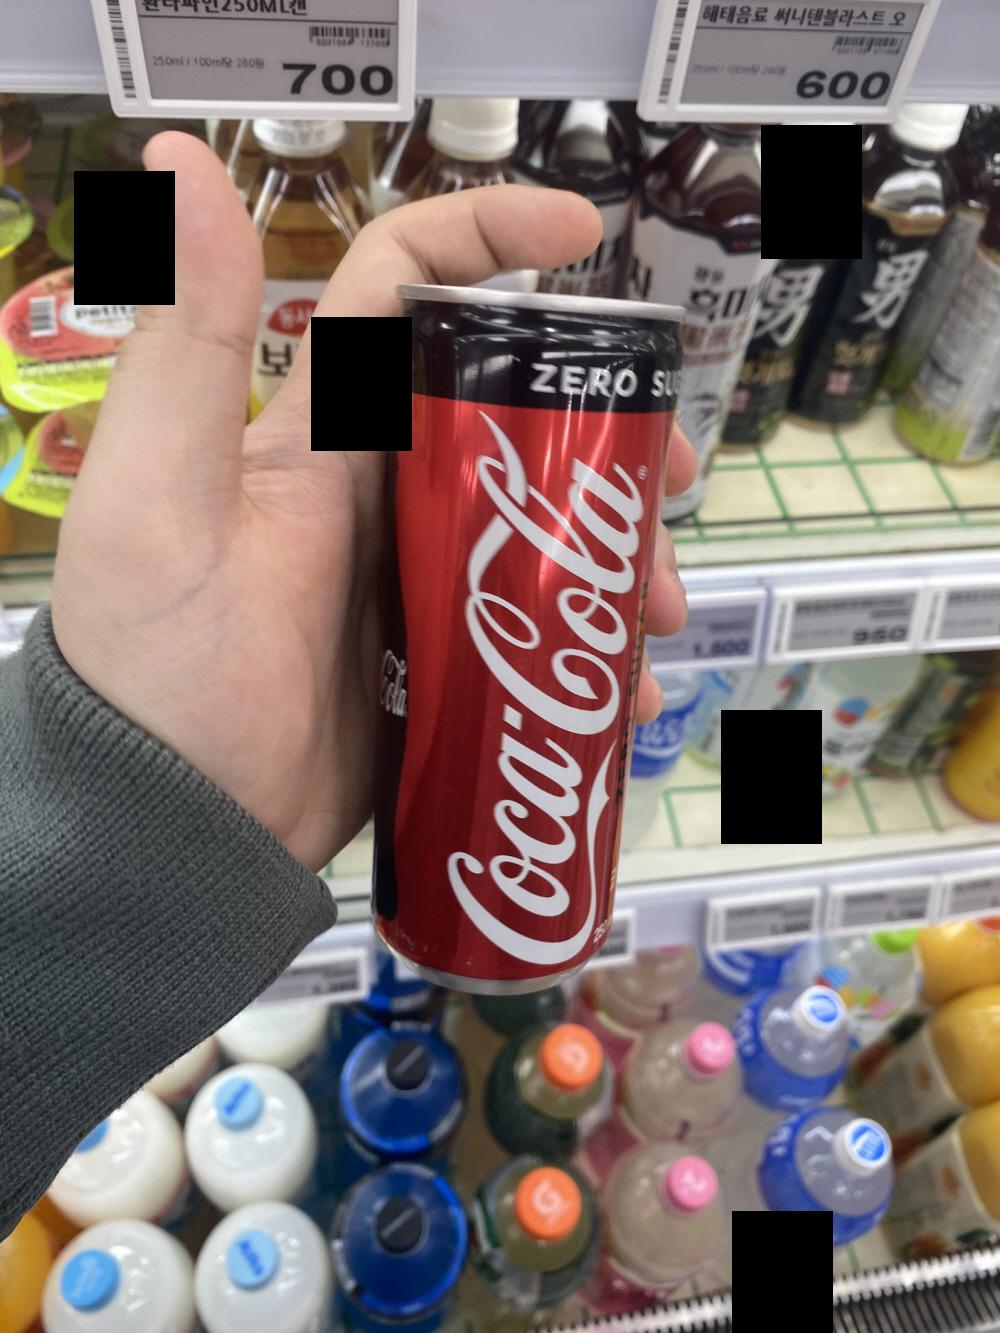cocacola_zero: (368, 277, 685, 990)
